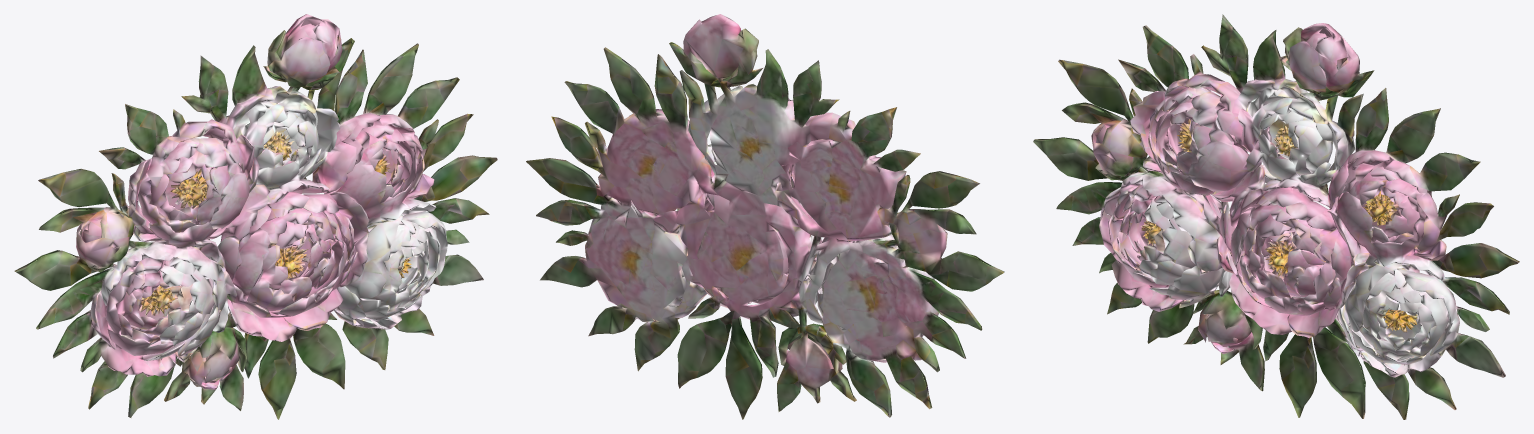
3 renders of one model, left to right at view 1: azimuth 30°, elevation 25°; view 2: azimuth 150°, elevation 25°; view 3: azimuth 330°, elevation 25°, orthographic.
Bounding box in the file's own units: 1.9 × 1.51 × 0.1946.
Materials: 1 (1 with a texture image).
